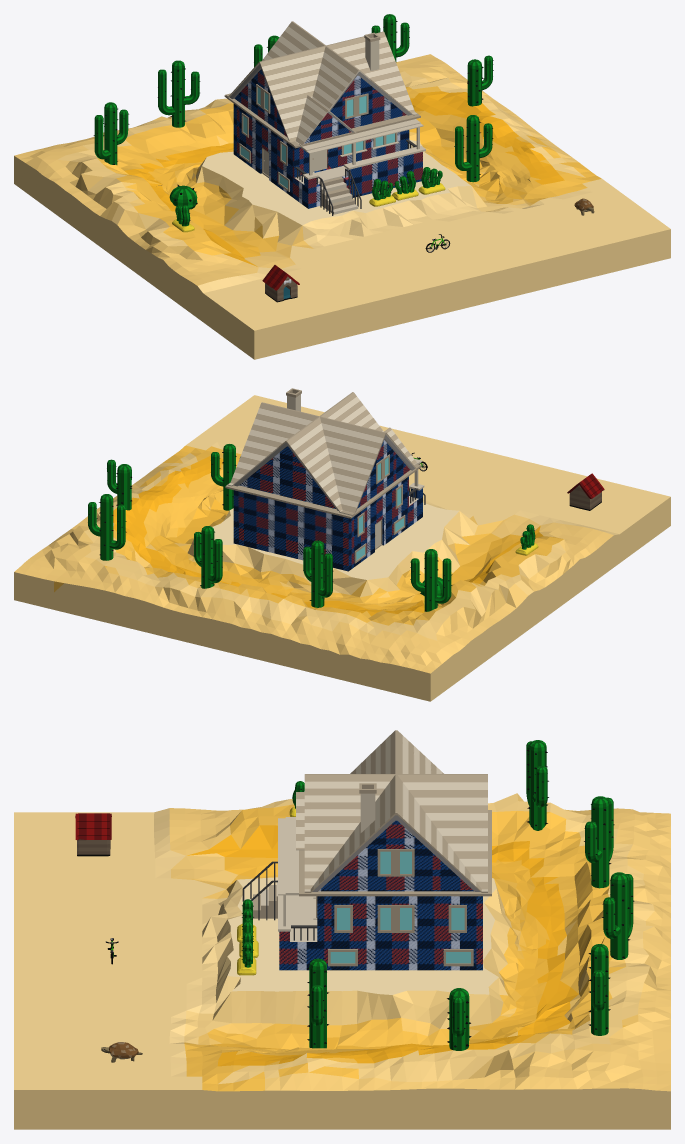
3 views of the same model, one above another, from view 1: azimuth 30°, elevation 25°; view 2: azimuth 150°, elevation 25°; view 3: azimuth 270°, elevation 25° (orthographic). The views are drawn at different scales.
Visible parts, largest first — view 1: Cube.001, Cube.171, Cylinder.037, Cylinder.044, Cylinder.045, Cylinder.038, OBJRANDOM_DOGHOUSE, Cylinder.042, Cylinder.039, Cylinder.041, Sphere.023, Cylinder.040; view 2: Cube.001, Cube.171, Cylinder.042, Cylinder.045, Cylinder.044, Cylinder.043, Cylinder.037, Cylinder.038, OBJRANDOM_DOGHOUSE; view 3: Cube.001, Cube.171, Cylinder.043, Cylinder.044, Cylinder.045, Cylinder.042, Cylinder.037, OBJRANDOM_DOGHOUSE, Cylinder.038, Cylinder.041.
Part boxes in pixels (left/top/right/bottom): Cube.001: left=14, top=54, right=670, bottom=359; Cube.171: left=224, top=21, right=425, bottom=215; Cylinder.037: left=454, top=115, right=493, bottom=182; Cylinder.044: left=157, top=60, right=200, bottom=127; Cylinder.045: left=93, top=102, right=129, bottom=164; Cylinder.038: left=467, top=55, right=493, bottom=106; OBJRANDOM_DOGHOUSE: left=262, top=265, right=299, bottom=302; Cylinder.042: left=371, top=14, right=409, bottom=62; Cylinder.039: left=369, top=179, right=395, bottom=206; Cylinder.041: left=418, top=167, right=445, bottom=194; Sphere.023: left=169, top=184, right=197, bottom=209; Cylinder.040: left=392, top=171, right=418, bottom=200; Cube.001: left=14, top=395, right=670, bottom=701; Cube.171: left=225, top=388, right=425, bottom=571; Cylinder.042: left=88, top=494, right=126, bottom=560; Cylinder.045: left=410, top=549, right=452, bottom=611; Cylinder.044: left=303, top=540, right=333, bottom=607; Cylinder.043: left=193, top=526, right=222, bottom=588; Cylinder.037: left=211, top=444, right=240, bottom=510; Cylinder.038: left=107, top=459, right=131, bottom=510; OBJRANDOM_DOGHOUSE: left=567, top=473, right=604, bottom=510; Cube.001: left=14, top=793, right=670, bottom=1129; Cube.171: left=242, top=730, right=491, bottom=970; Cylinder.043: left=602, top=872, right=634, bottom=959; Cylinder.044: left=584, top=796, right=614, bottom=888; Cylinder.045: left=526, top=740, right=548, bottom=830; Cylinder.042: left=588, top=944, right=610, bottom=1035; Cylinder.037: left=307, top=958, right=328, bottom=1048; OBJRANDOM_DOGHOUSE: left=75, top=813, right=111, bottom=856; Cylinder.038: left=447, top=988, right=471, bottom=1050; Cylinder.041: left=237, top=932, right=256, bottom=975.
Size of the model in its own units: 4002 by 1635 by 4001.
33 materials, 3 textured.
